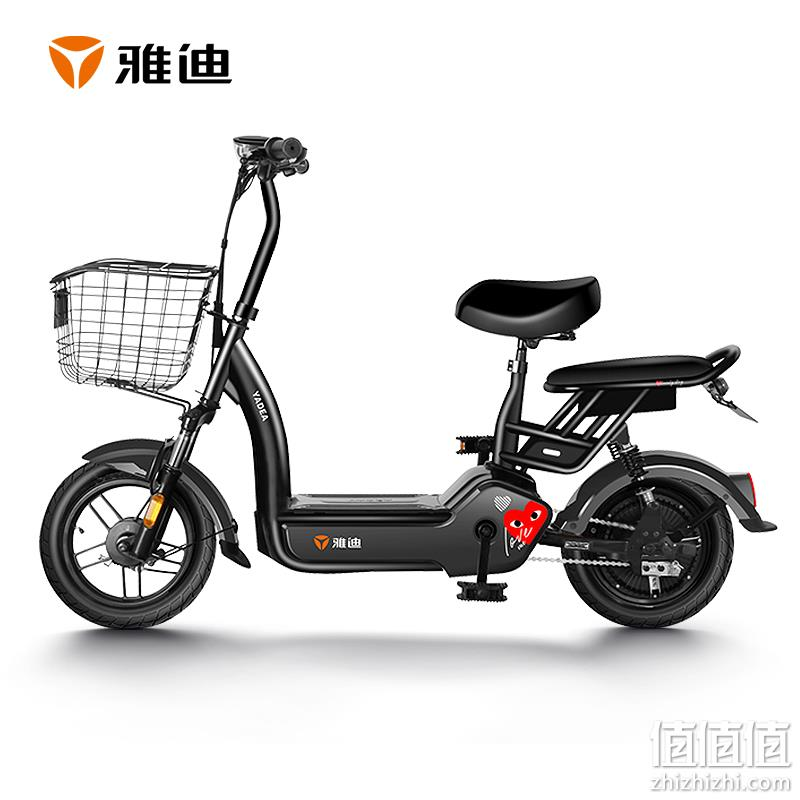电动车: (31, 110, 782, 634)
